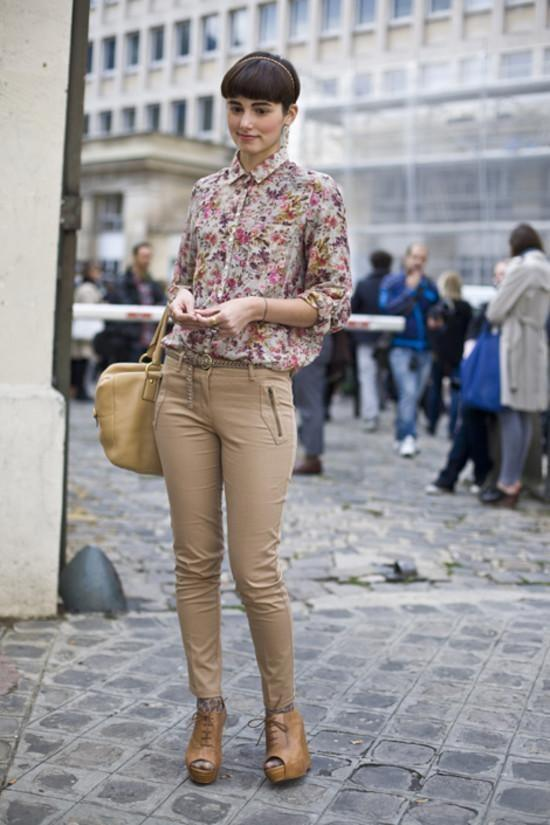pants: (153, 354, 298, 711)
shirt: (161, 150, 354, 376)
